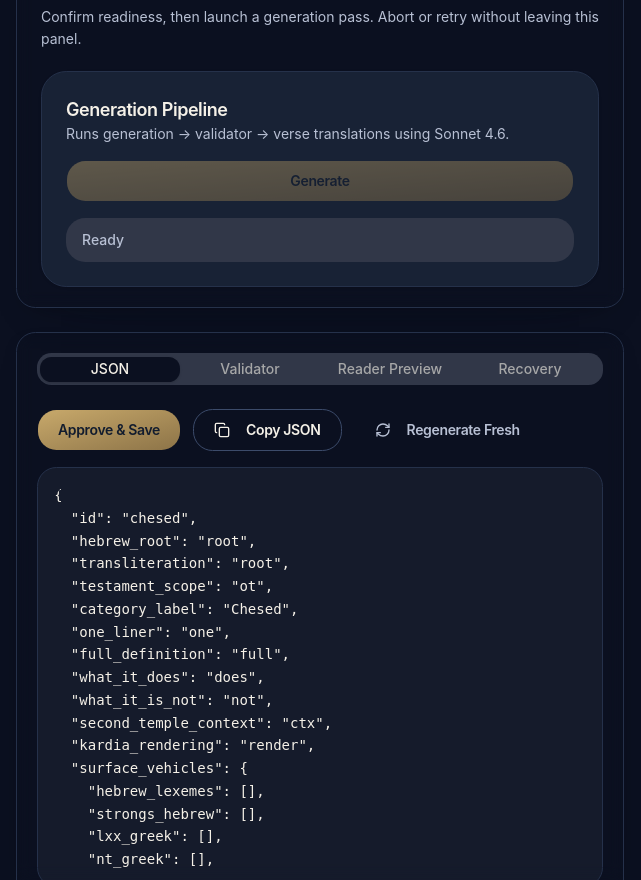
Test: App shell › approves an entry and resets the generator outputs
This screenshot has width=641, height=880.
(page scrolled)
Click the button "Approve & Save": (109, 430) [37,409,181,451]
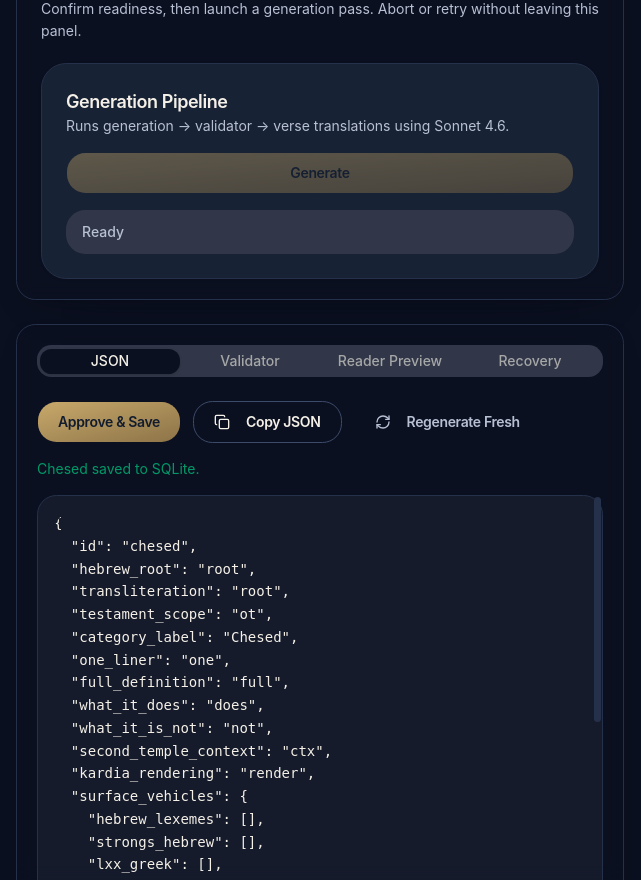
Check: the text "Chesed saved to SQLite." is shown, box [37,460,200,477]
